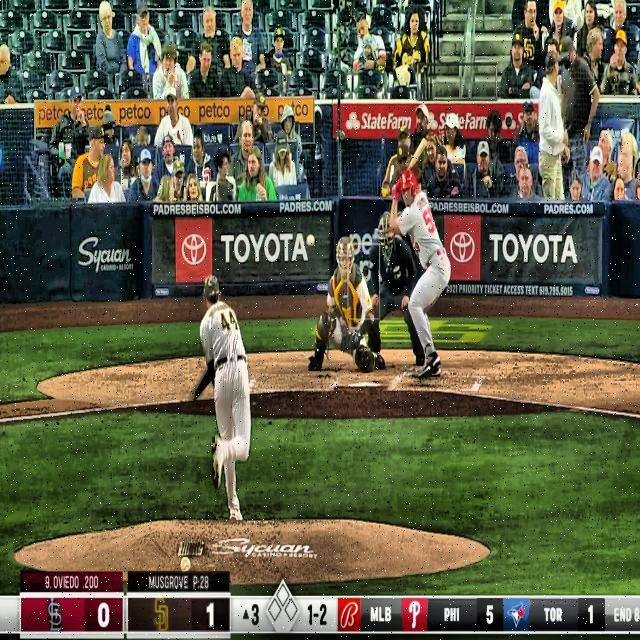baseball: (306, 232, 315, 248)
